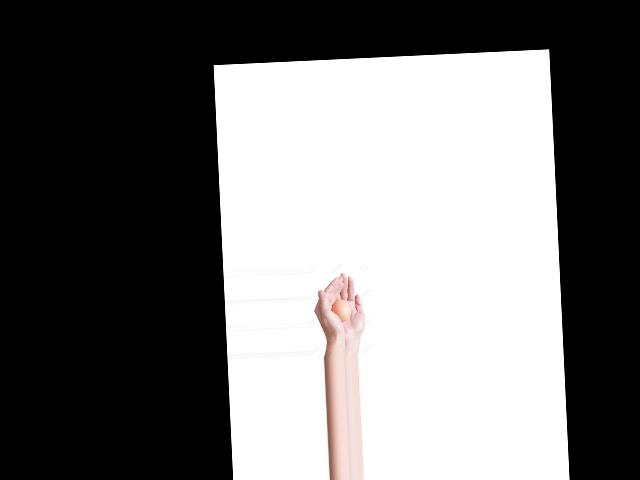egg: (331, 298, 350, 320)
